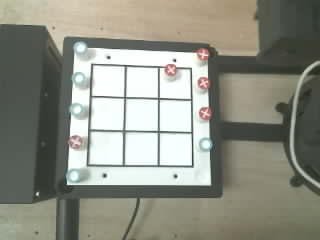blue circle: (73, 41, 88, 55), (71, 72, 85, 86), (69, 103, 83, 116), (66, 169, 80, 182), (199, 137, 212, 151)
board: (67, 42, 212, 185)
cells: (89, 132, 122, 164), (125, 133, 157, 165), (91, 98, 123, 129), (160, 134, 191, 165), (126, 99, 157, 130), (160, 100, 191, 131), (92, 66, 124, 96), (160, 68, 191, 98), (127, 67, 157, 97)
grid: (87, 64, 193, 167)
red cross: (68, 135, 82, 149), (199, 107, 212, 119), (198, 77, 210, 89), (197, 48, 209, 60), (164, 64, 176, 75)
